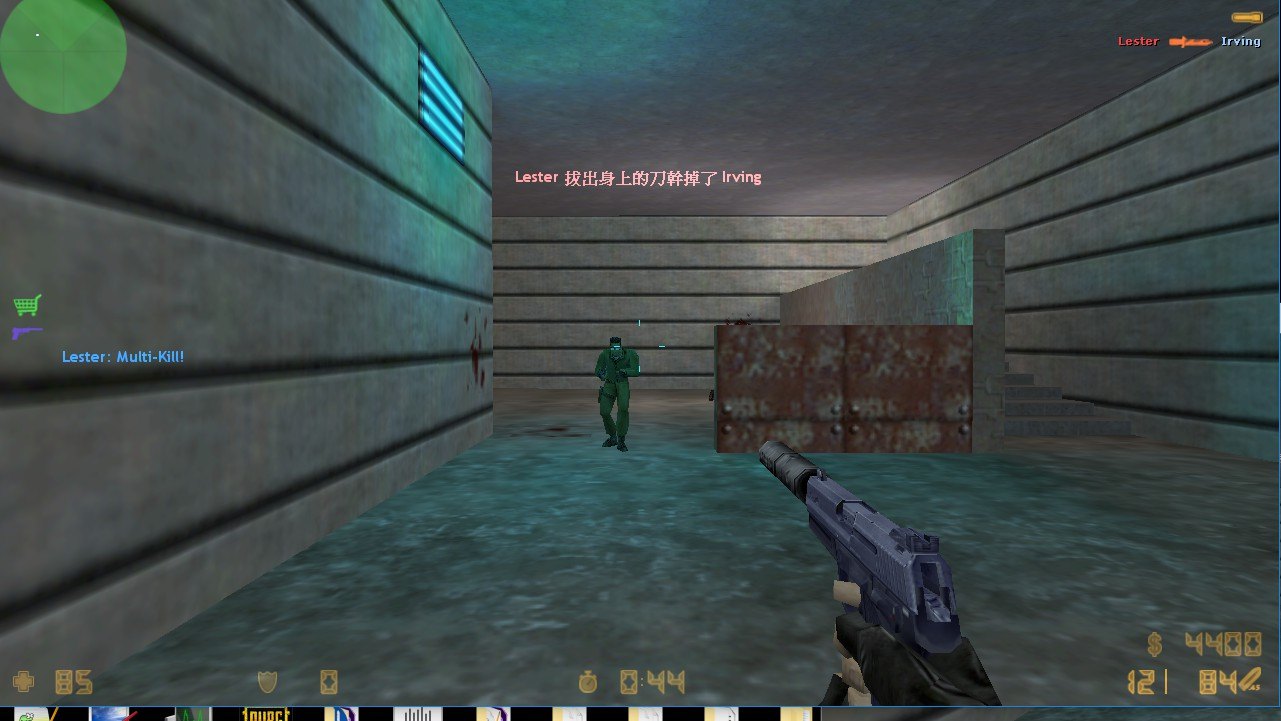person: (591, 332, 640, 460)
